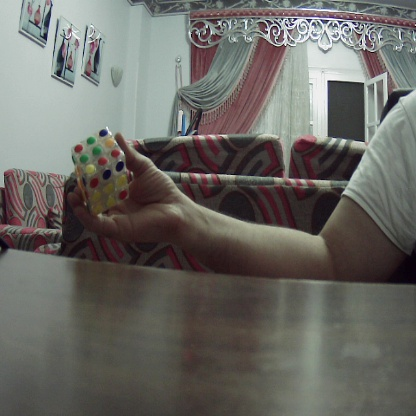Rubix Cube: (67, 131, 136, 211)
